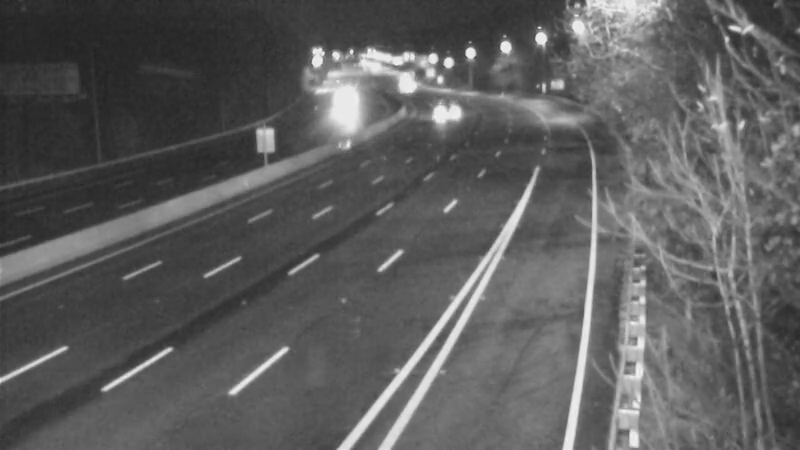vehicle: (421, 85, 471, 135), (322, 85, 372, 135)
